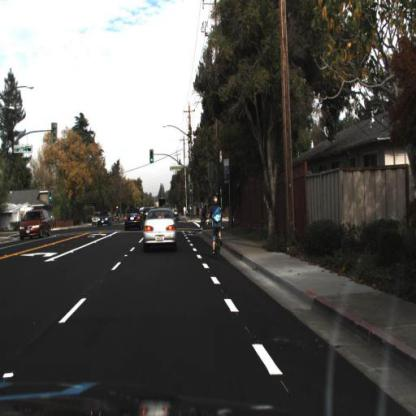biker: (207, 193, 226, 264), (115, 206, 122, 227)
car: (143, 208, 182, 250), (19, 208, 54, 242), (123, 205, 144, 233), (97, 208, 115, 233), (92, 209, 100, 229)
trafficLight-Green: (149, 147, 158, 168), (48, 187, 56, 205), (187, 182, 194, 200)
